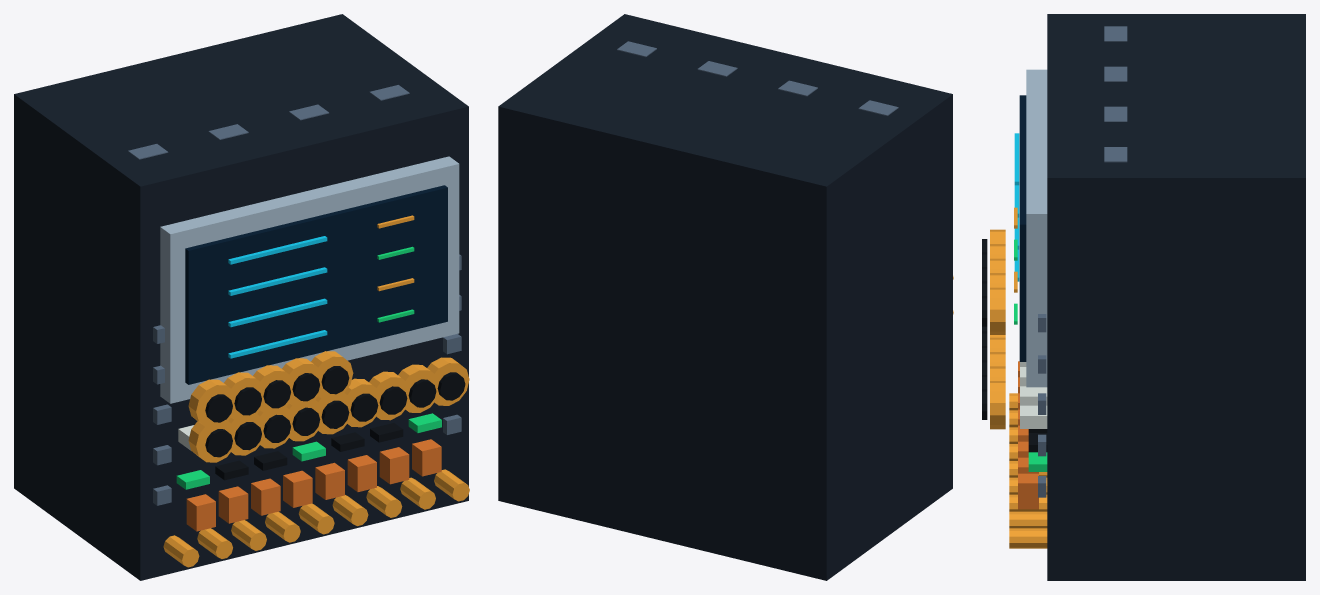
Rendered from 76_L88_AirQualityEnvironmentalPLC.fbx.
3 renders of one model, left to right at view 1: azimuth 30°, elevation 25°; view 2: azimuth 150°, elevation 25°; view 3: azimuth 270°, elevation 25°, orthographic. The views are drawn at different scales.
Parts seen in each view (by area): view 1: L87_AirQualityEnvironmentalPLC_Part_0000, L87_AirQualityEnvironmentalPLC_Part_0002, L87_AirQualityEnvironmentalPLC_Part_0001, L87_AirQualityEnvironmentalPLC_Part_0009, L87_AirQualityEnvironmentalPLC_Part_0004, L87_AirQualityEnvironmentalPLC_Part_0008, L87_AirQualityEnvironmentalPLC_Part_0003, L87_AirQualityEnvironmentalPLC_Part_0007, L87_AirQualityEnvironmentalPLC_Part_0005, L87_AirQualityEnvironmentalPLC_Part_0028, L87_AirQualityEnvironmentalPLC_Part_0010, L87_AirQualityEnvironmentalPLC_Part_0026 (+24 smaller); view 2: L87_AirQualityEnvironmentalPLC_Part_0000, L87_AirQualityEnvironmentalPLC_Part_0008; view 3: L87_AirQualityEnvironmentalPLC_Part_0000, L87_AirQualityEnvironmentalPLC_Part_0001, L87_AirQualityEnvironmentalPLC_Part_0004, L87_AirQualityEnvironmentalPLC_Part_0008, L87_AirQualityEnvironmentalPLC_Part_0002, L87_AirQualityEnvironmentalPLC_Part_0009, L87_AirQualityEnvironmentalPLC_Part_0006, L87_AirQualityEnvironmentalPLC_Part_0026, L87_AirQualityEnvironmentalPLC_Part_0036, L87_AirQualityEnvironmentalPLC_Part_0003, L87_AirQualityEnvironmentalPLC_Part_0005.
Part boxes in pixels (box(x1,y1,x2,y2)): L87_AirQualityEnvironmentalPLC_Part_0000: box(14, 14, 468, 580); L87_AirQualityEnvironmentalPLC_Part_0002: box(185, 185, 447, 384); L87_AirQualityEnvironmentalPLC_Part_0001: box(160, 156, 459, 403); L87_AirQualityEnvironmentalPLC_Part_0009: box(186, 439, 441, 531); L87_AirQualityEnvironmentalPLC_Part_0004: box(163, 215, 469, 567); L87_AirQualityEnvironmentalPLC_Part_0008: box(128, 85, 461, 505); L87_AirQualityEnvironmentalPLC_Part_0003: box(228, 236, 327, 358); L87_AirQualityEnvironmentalPLC_Part_0007: box(215, 423, 403, 480); L87_AirQualityEnvironmentalPLC_Part_0005: box(176, 246, 441, 489); L87_AirQualityEnvironmentalPLC_Part_0028: box(188, 379, 235, 427); L87_AirQualityEnvironmentalPLC_Part_0010: box(188, 420, 235, 462); L87_AirQualityEnvironmentalPLC_Part_0026: box(427, 357, 469, 405); L87_AirQualityEnvironmentalPLC_Part_0000: box(498, 14, 952, 580); L87_AirQualityEnvironmentalPLC_Part_0008: box(617, 41, 898, 115); L87_AirQualityEnvironmentalPLC_Part_0000: box(1047, 14, 1305, 580); L87_AirQualityEnvironmentalPLC_Part_0001: box(1026, 69, 1047, 387); L87_AirQualityEnvironmentalPLC_Part_0004: box(1009, 207, 1047, 548); L87_AirQualityEnvironmentalPLC_Part_0008: box(1038, 26, 1127, 497); L87_AirQualityEnvironmentalPLC_Part_0002: box(1019, 95, 1026, 361); L87_AirQualityEnvironmentalPLC_Part_0009: box(1018, 361, 1038, 509); L87_AirQualityEnvironmentalPLC_Part_0006: box(1020, 362, 1047, 428); L87_AirQualityEnvironmentalPLC_Part_0026: box(990, 381, 1005, 429); L87_AirQualityEnvironmentalPLC_Part_0036: box(990, 287, 1005, 334); L87_AirQualityEnvironmentalPLC_Part_0003: box(1014, 133, 1019, 281); L87_AirQualityEnvironmentalPLC_Part_0005: box(1014, 239, 1047, 471).
Size of the model in its own units: 104 by 120 by 86.88.
